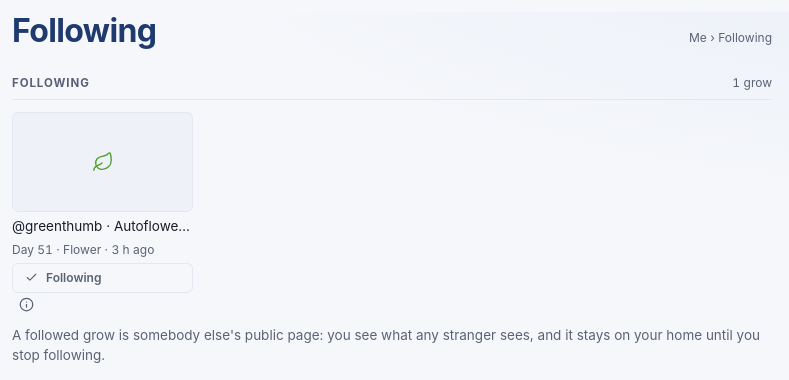
the followed grows › stops following from the tile, and the grow leaves the list
Click the button "Following" at (102, 278), box x1=12 y1=263 x2=193 y2=293
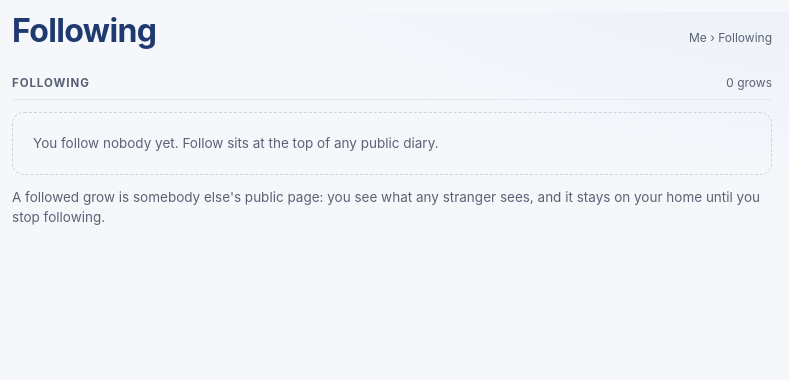
Check: the link "@greenthumb · Autoflower run" is gone
Check: the text "You follow nobody yet. Follow sits at the top of any public diary." is shown, box x1=12 y1=112 x2=772 y2=175
